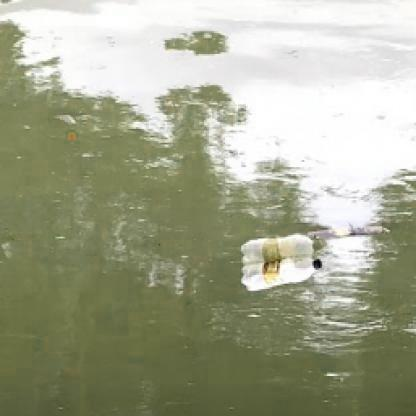Plastic: (237, 252, 323, 294)
